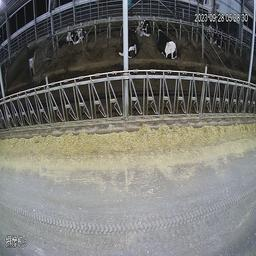cow: (154, 23, 178, 60), (63, 25, 87, 45), (127, 25, 139, 61), (207, 14, 220, 46), (139, 16, 151, 37)
